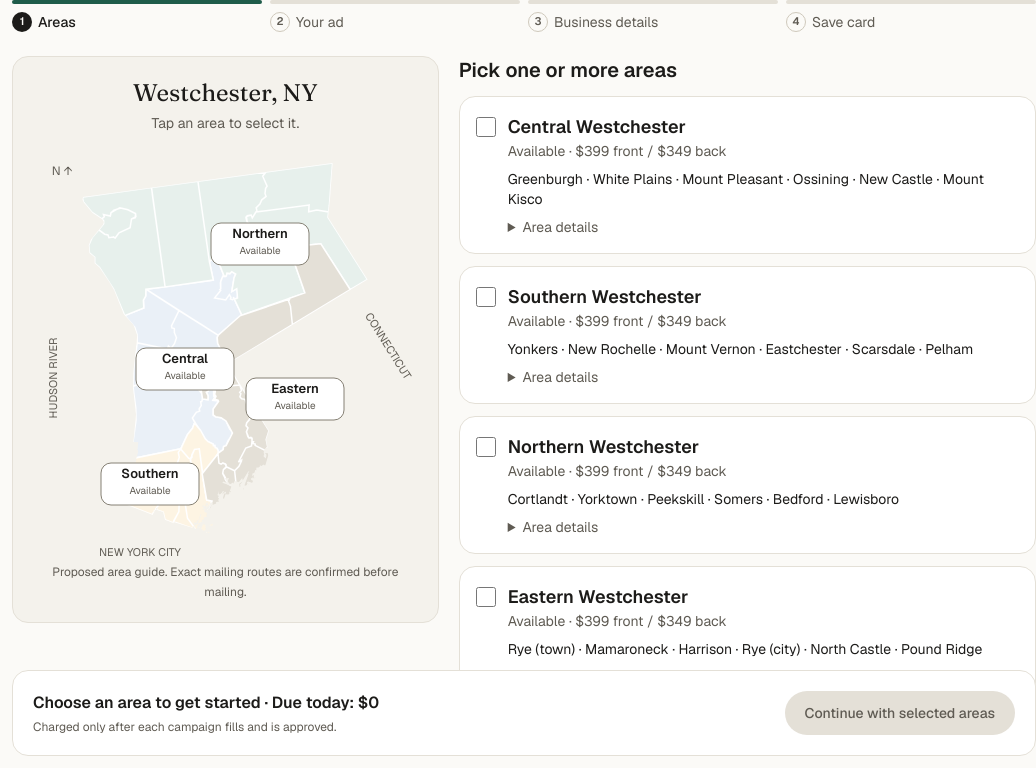
closed checkout displays its neutral server refusal in the area picker
Click the checkbox labelled "Central" at (486, 127), box x1=476 y1=117 x2=496 y2=137
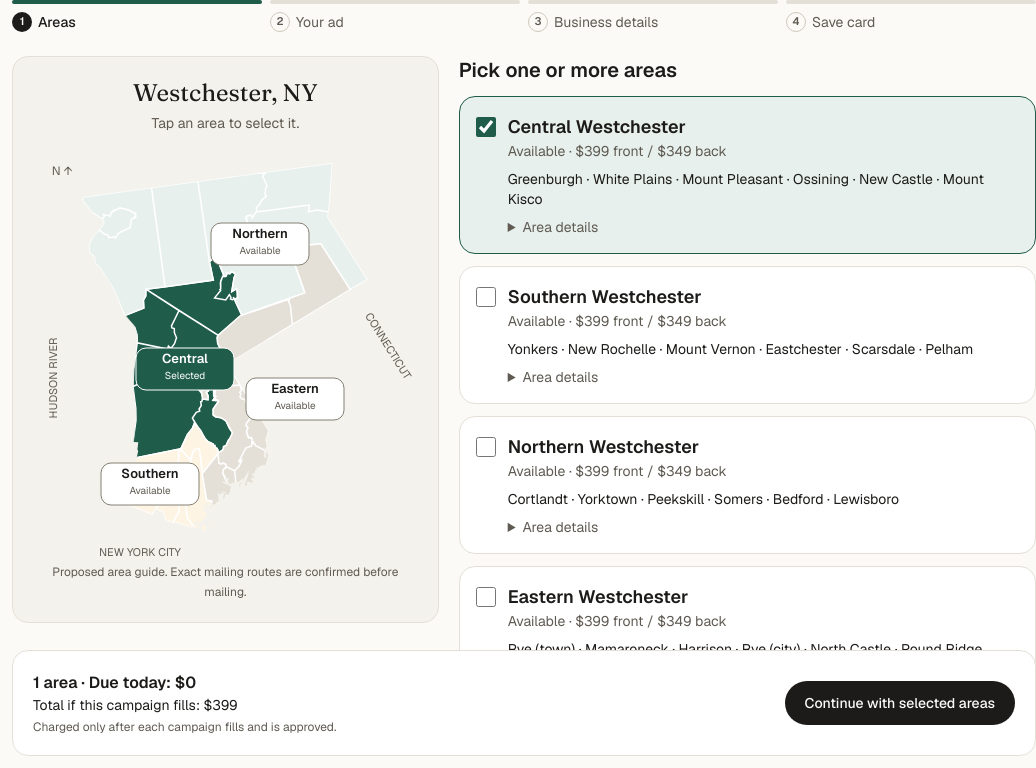
Click the button "Continue with selected areas" at (900, 703), box x1=784 y1=681 x2=1015 y2=725
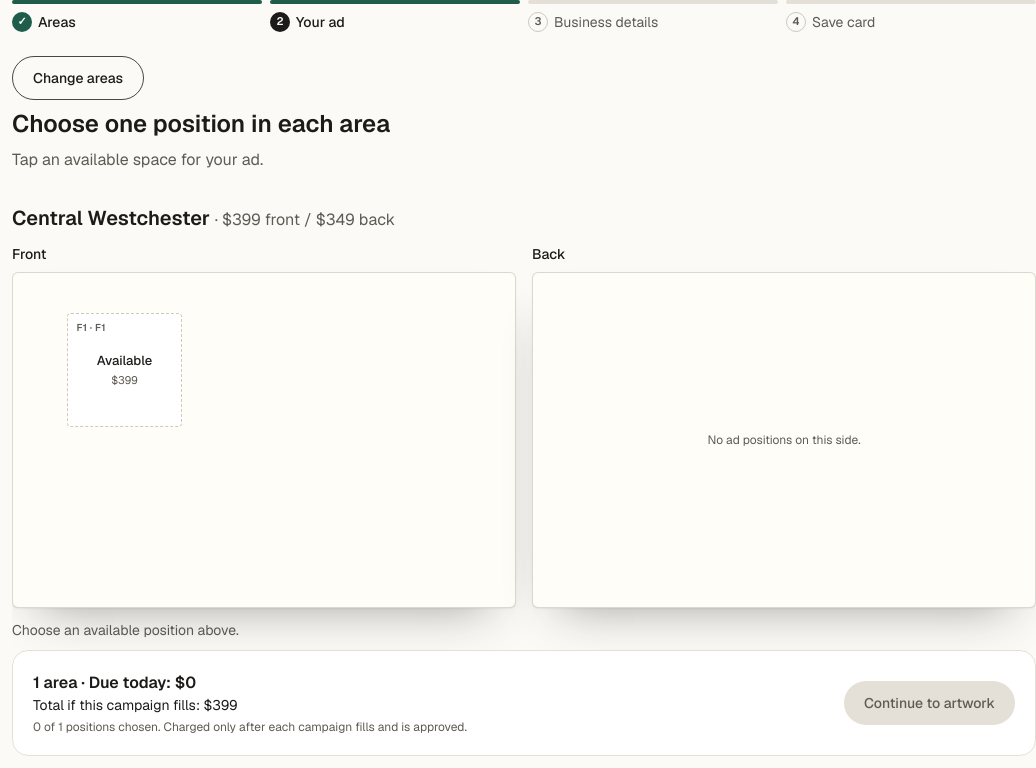
Click the button with aria-label "position F1:" at (124, 370), box x1=55 y1=301 x2=194 y2=440
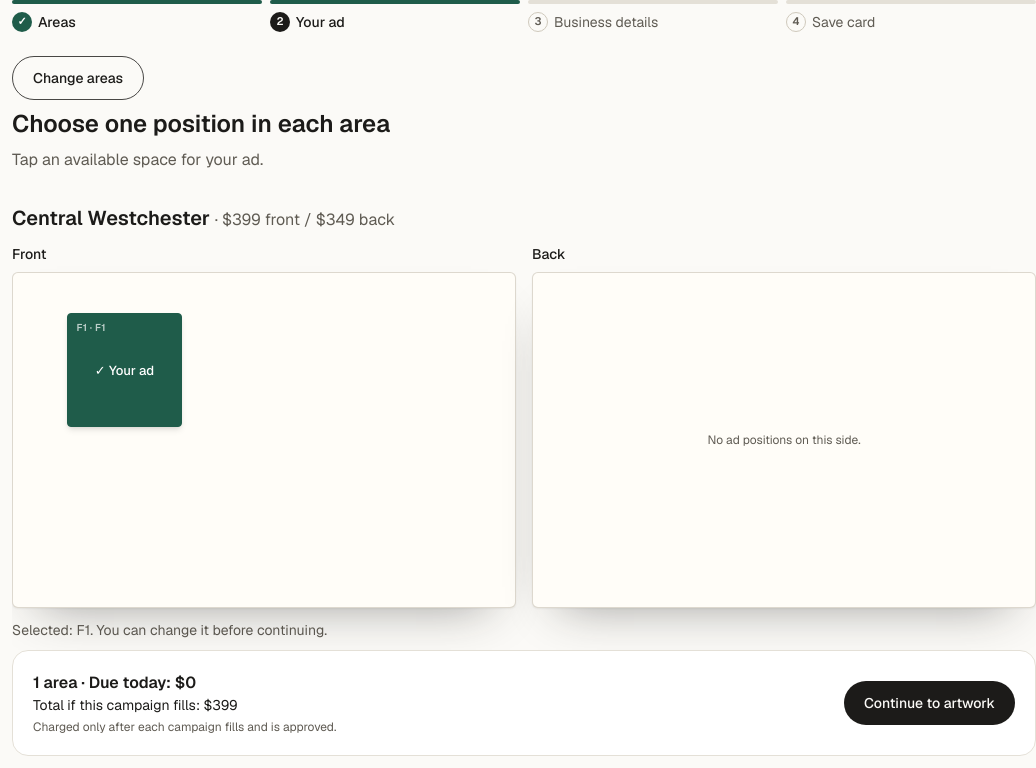
Click the button "Continue to artwork" at (930, 703), box x1=844 y1=681 x2=1015 y2=725
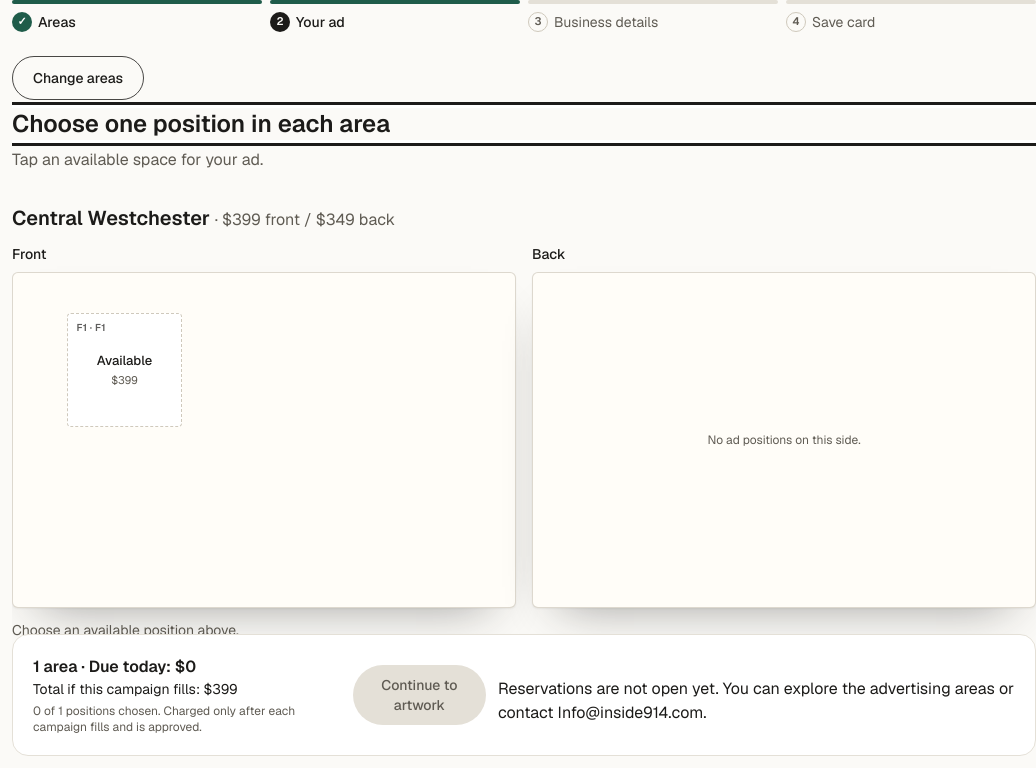
expect the heading "Choose one position in each area" is shown: met, box x1=12 y1=108 x2=1035 y2=140
expect the message shows "Reservations are not open yet. You can explore the advertising areas or contact Info@inside914.com.": met, box x1=498 y1=678 x2=1014 y2=723
